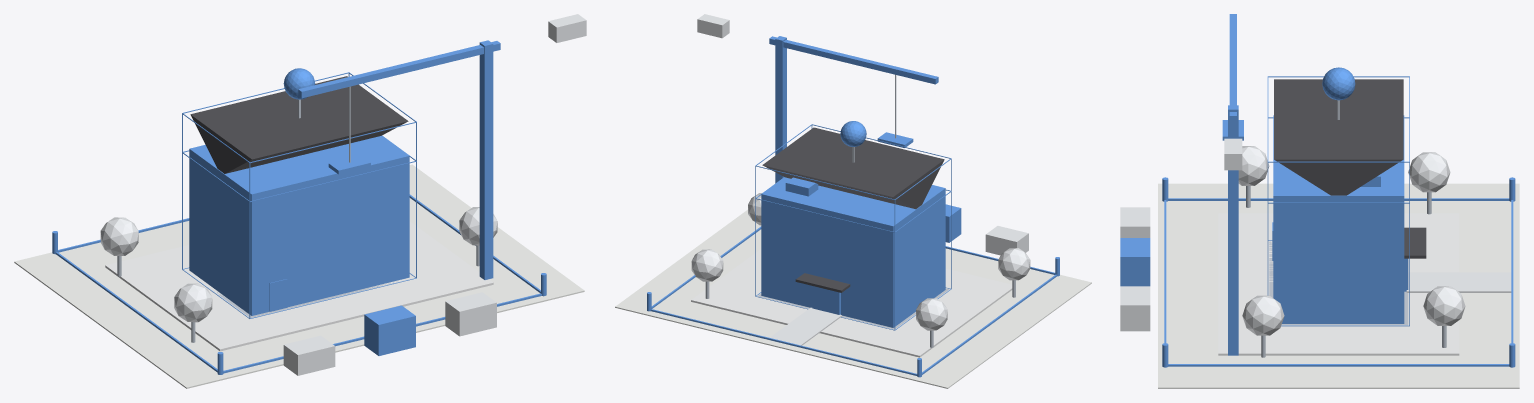
File: gebouw-lagen.glb
3 views of the same model, side by side, from view 1: azimuth 30°, elevation 25°; view 2: azimuth 150°, elevation 25°; view 3: azimuth 270°, elevation 25° (orthographic). The views are drawn at different scales.
Visible parts, largest first — view 1: layer_bouwfysica__schil, layer_landschap__gazon, layer_landschap__terras, layer_architectuur__dak, layer_bouwen__kraanmast, layer_aanbesteden__inschrijving1, layer_bouwen__kraanarm, layer_aanbesteden__inschrijving2, layer_aanbesteden__inschrijving0, layer_landschap__kroon3, layer_landschap__kroon0, layer_bouwen__contragewicht (+6 smaller); view 2: layer_bouwfysica__schil, layer_landschap__gazon, layer_landschap__terras, layer_architectuur__dak, layer_bouwen__kraanarm, layer_bouwen__kraanmast, layer_landschap__pad, layer_aanbesteden__inschrijving0, layer_landschap__kroon2, layer_landschap__kroon3, layer_landschap__kroon0, layer_vergunnen__grens_x12 (+7 smaller); view 3: layer_landschap__gazon, layer_bouwfysica__schil, layer_landschap__terras, layer_architectuur__dak, layer_bouwen__kraanmast, layer_landschap__pad, layer_aanbesteden__inschrijving1, layer_aanbesteden__inschrijving2, layer_landschap__kroon1, layer_landschap__kroon0, layer_landschap__kroon2, layer_vergunnen__grens_y13 (+10 smaller).
Part boxes in pixels (x1,y1,x2,y2): layer_bouwfysica__schil: (189, 135, 409, 315); layer_landschap__gazon: (14, 164, 584, 388); layer_landschap__terras: (105, 221, 493, 351); layer_architectuur__dak: (190, 76, 408, 173); layer_bouwen__kraanmast: (479, 40, 493, 279); layer_aanbesteden__inschrijving1: (364, 305, 415, 355); layer_bouwen__kraanarm: (298, 41, 500, 98); layer_aanbesteden__inschrijving2: (445, 292, 496, 336); layer_aanbesteden__inschrijving0: (283, 335, 335, 375); layer_landschap__kroon3: (174, 283, 212, 322); layer_landschap__kroon0: (100, 217, 138, 255); layer_bouwen__contragewicht: (548, 14, 586, 42); layer_bouwfysica__schil: (761, 177, 945, 327); layer_landschap__gazon: (615, 209, 1091, 388); layer_landschap__terras: (691, 249, 1012, 357); layer_architectuur__dak: (762, 127, 944, 209); layer_bouwen__kraanarm: (769, 36, 938, 84); layer_bouwen__kraanmast: (775, 36, 786, 183); layer_landschap__pad: (770, 307, 841, 345); layer_aanbesteden__inschrijving0: (985, 226, 1028, 255); layer_landschap__kroon2: (691, 249, 723, 281); layer_landschap__kroon3: (998, 248, 1030, 280); layer_landschap__kroon0: (916, 298, 947, 330); layer_vergunnen__grens_x12: (650, 309, 917, 375); layer_landschap__gazon: (1158, 183, 1519, 388); layer_bouwfysica__schil: (1273, 115, 1404, 323); layer_landschap__terras: (1218, 213, 1459, 355); layer_architectuur__dak: (1274, 79, 1403, 195); layer_bouwen__kraanmast: (1228, 105, 1238, 355); layer_landschap__pad: (1406, 272, 1511, 292); layer_aanbesteden__inschrijving1: (1120, 238, 1150, 286); layer_aanbesteden__inschrijving2: (1120, 286, 1150, 331); layer_landschap__kroon1: (1242, 295, 1284, 335); layer_landschap__kroon0: (1408, 152, 1450, 192); layer_landschap__kroon2: (1423, 286, 1465, 325); layer_vergunnen__grens_y13: (1168, 364, 1509, 366).
Size of the model in its own units: 34.7 by 19 by 26.5.
